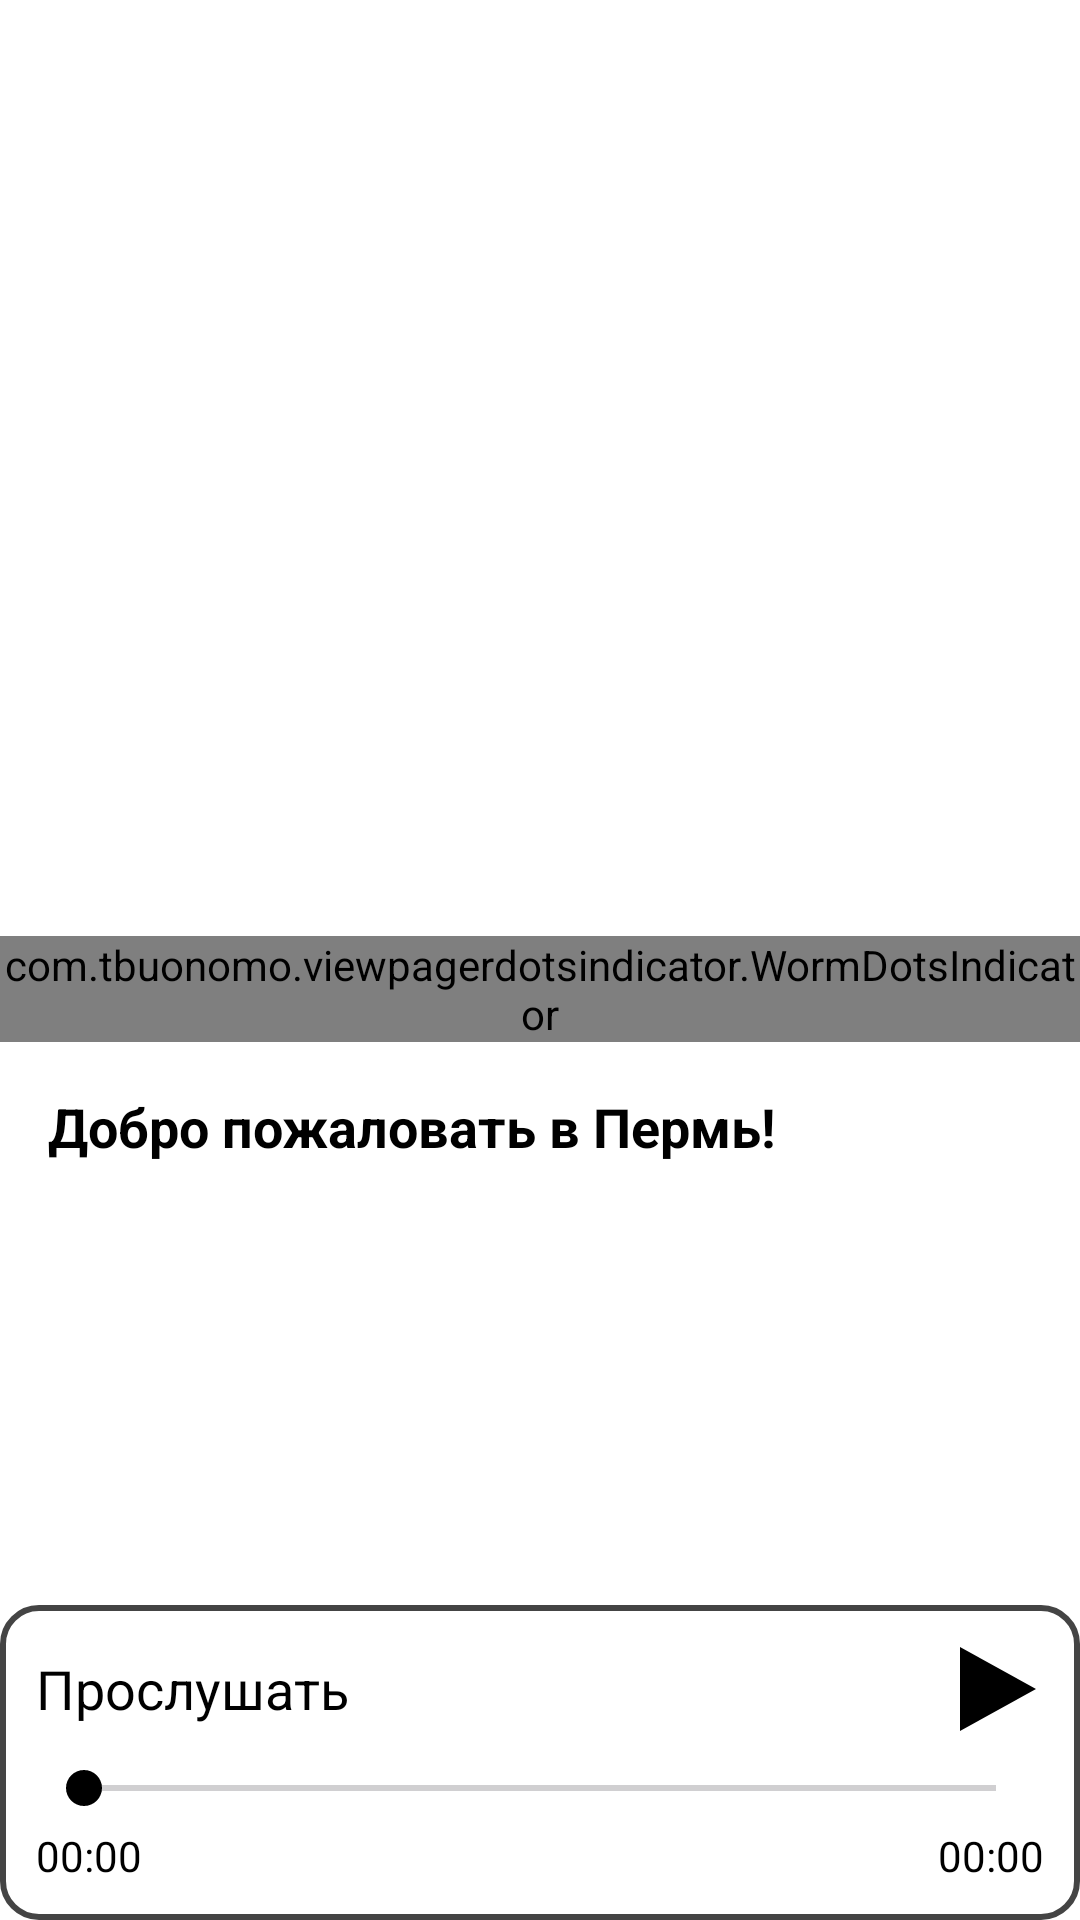

Locate icon controls on the screen. Image size 1080×1920, boxes as BBox(x1, y1, x2, y2).
play: BBox(960, 1647, 1036, 1731)
